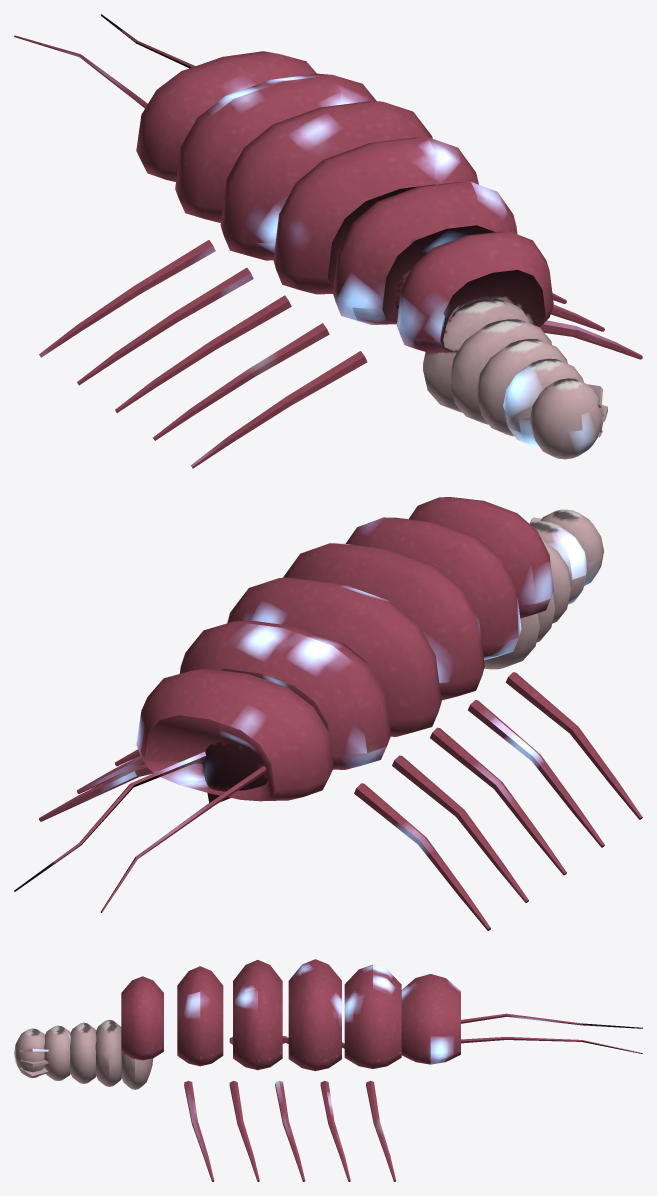
The model's file is acanthephyra_purpurea.glb.
The picture shows the model from 3 angles, top to bottom: view 1: azimuth 30°, elevation 25°; view 2: azimuth 150°, elevation 25°; view 3: azimuth 270°, elevation 25°; orthographic projection. The views are drawn at different scales.
Visible parts, largest first — view 1: acanthephyra_purpurea; view 2: acanthephyra_purpurea; view 3: acanthephyra_purpurea.
Part boxes in pixels (x1=…): acanthephyra_purpurea: x1=14, y1=14, x2=642, y2=468; acanthephyra_purpurea: x1=14, y1=497, x2=642, y2=930; acanthephyra_purpurea: x1=14, y1=959, x2=642, y2=1181.
Bounding box in the file's own units: 0.2969 × 0.153 × 0.5975.
2 materials, 2 textured.
